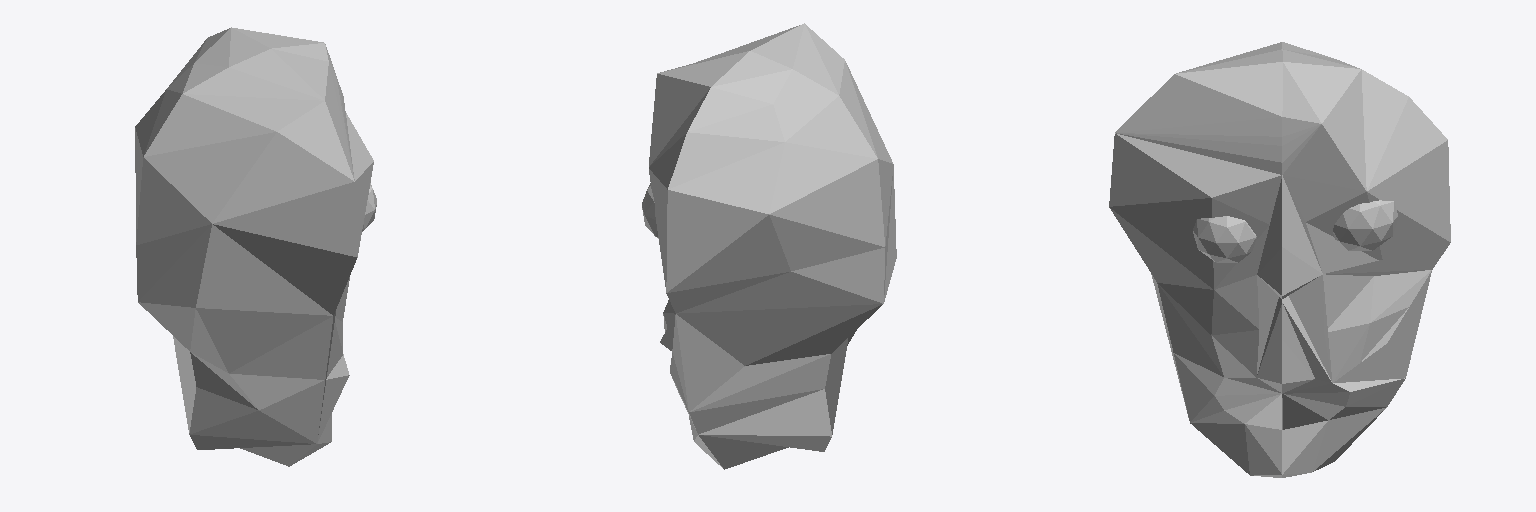
Rendered from DeathMaskFinished.obj.
The picture shows the model from 3 angles: view 1: azimuth 30°, elevation 25°; view 2: azimuth 150°, elevation 25°; view 3: azimuth 270°, elevation 25°; orthographic projection.
Visible parts, largest first — view 1: Plane.001; view 2: Plane.001; view 3: Plane.001.
Boxes of the visible parts, x1,y1,x2,y2 form: Plane.001: [135, 27, 376, 466]; Plane.001: [642, 23, 896, 469]; Plane.001: [1109, 42, 1450, 477].
Bounding box in the file's own units: 1.78 × 2.9 × 2.22.